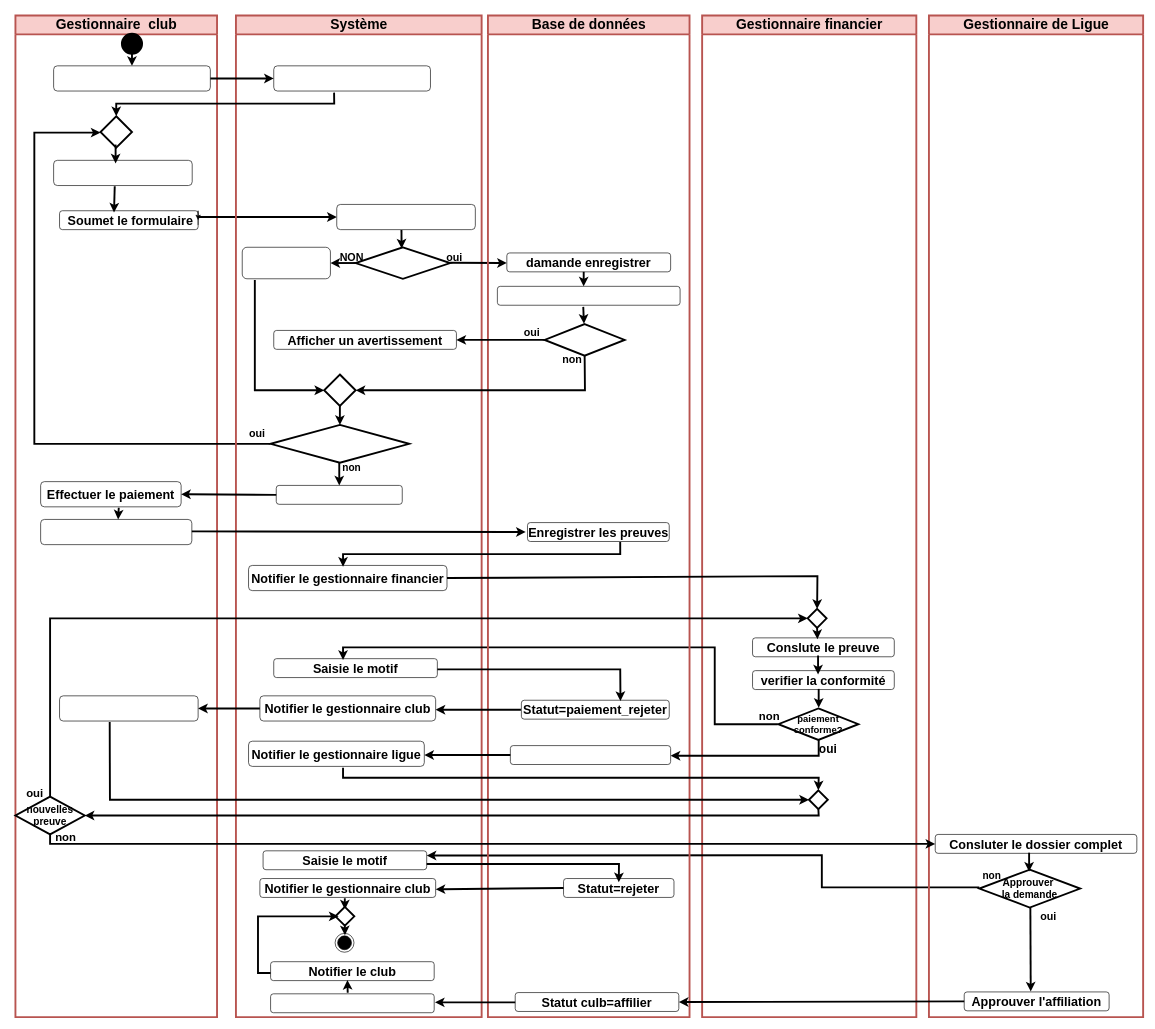
This 1155x1029 diagram has some shape labels left out. The shapes that lost their labels are listed below. From the top down, each one's centre as x and y in pixels, then its label:
the point at 131,78: Accède au formulaire
the point at 351,78: Afficher le formulaire
the point at 122,173: Remplire le formulaire
the point at 405,217: Verifier les données
the point at 286,263: Champs non conforme
the point at 402,262: Données valide?
the point at 588,295: Status=en_enttente_paiement
the point at 584,339: Club déja existant?
the point at 339,443: Correction necessaire
the point at 339,494: Notifier le montant
the point at 116,532: Transmettre les preuves
the point at 128,708: Corriger et tansmettre
the point at 590,755: Mettre a jour le paiement
the point at 352,1003: Activer l'espace club
